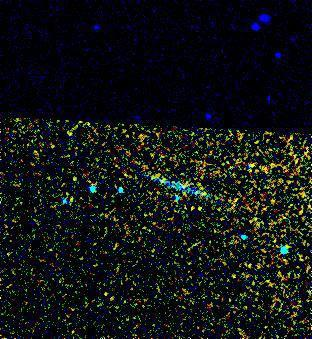star: (60, 162, 90, 192)
